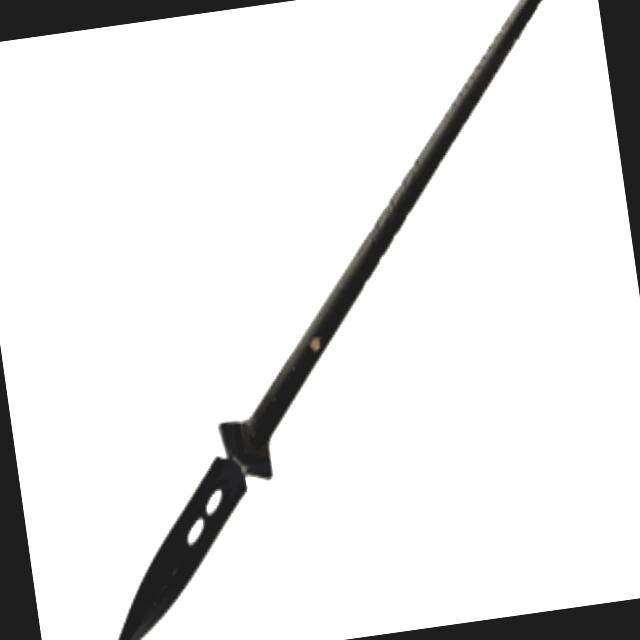spear: (17, 0, 640, 640)
